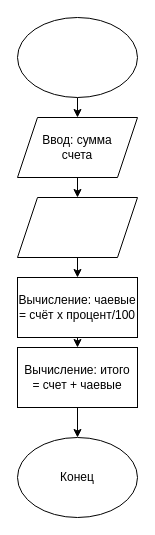
Some shapes in this 155 by 535 pixel diagram are drawn without their labels. The shapes that lost their labels are listed below. From the top down, each one's centre as x and y in pixels, then its label:
At (x=77, y=57): "Начало".
At (x=77, y=227): "Ввод: процент чаевых".
